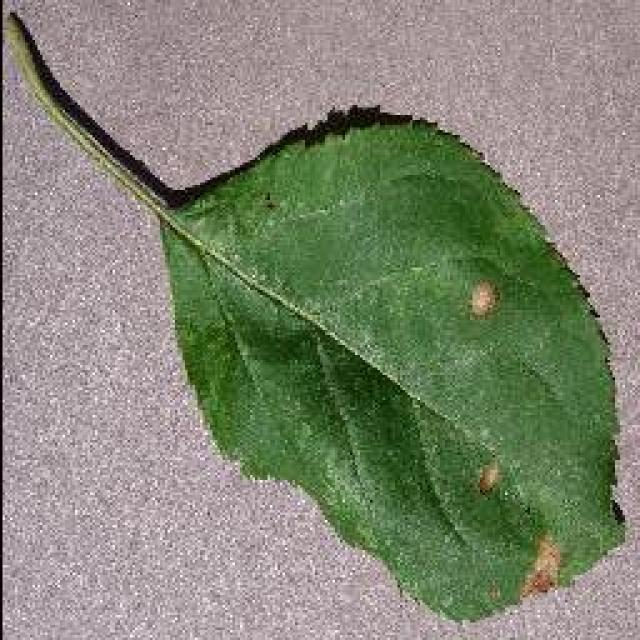Black_rot: (5, 5, 627, 623)
